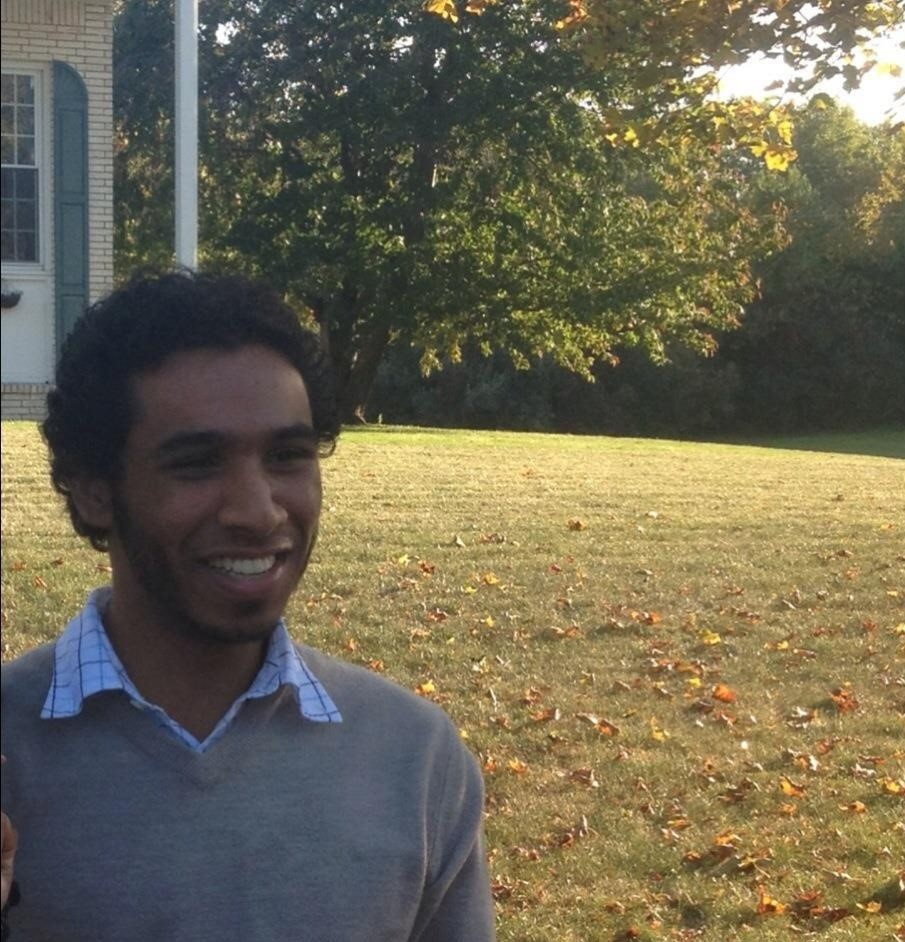face_no_mask: (55, 323, 337, 652)
